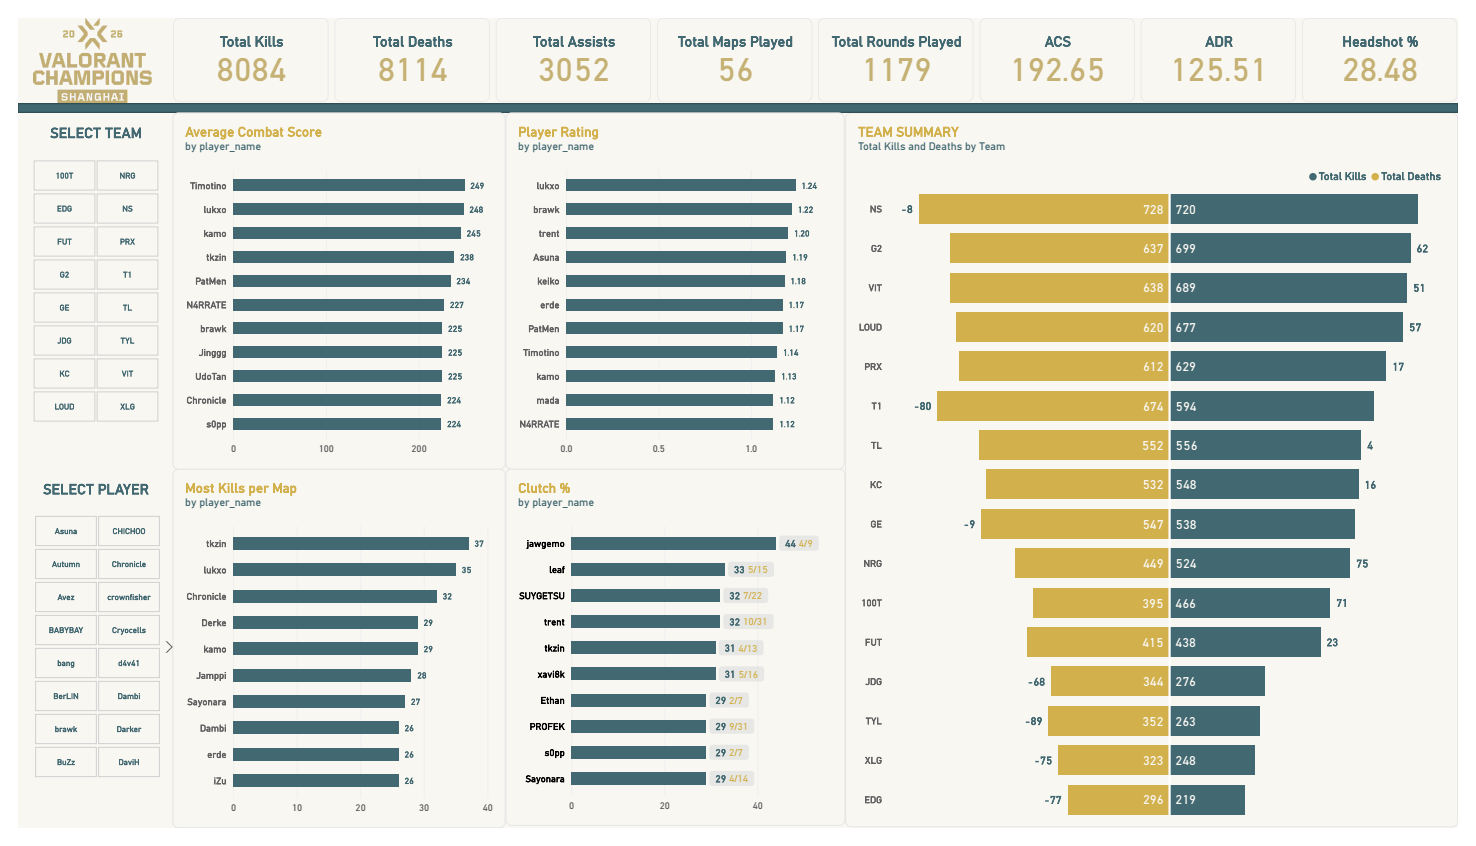

The dashboard page shown, as its layout file describes it:
{"tool":"powerbi","page":{"name":"Tournament Stats","canvas":[1920,1080],"ordinal":0},"visuals":[{"type":"cardVisual","fields":{"Data":["Sum(silver_data.total_kills)","Sum(silver_data.total_deaths)","Sum(silver_data.total_assists)","vlr_champs26_stats.Maps Played","vlr_champs26_stats.Total Rounds Played","silver_data.Average Combat Score","vlr_champs26_stats.Average Damage per Round","vlr_champs26_stats.Headshot %"]},"box":[207,0,1712.2,112.4],"z":0},{"type":"slicer","fields":{"Values":["silver_data.team"]},"box":[0,187.7,206.2,352.3],"z":2000},{"type":"image","box":[14.5,0,170.6,113.7],"z":3000},{"type":"barChart","title":"TEAM SUMMARY","fields":{"Category":["vlr_champs26_stats.team"],"Y":["vlr_champs26_stats.Total Kills","vlr_champs26_stats.-total_deaths"]},"box":[1103.4,126,816.2,952.6],"z":4000},{"type":"shape","box":[0,114.1,1920.1,12],"z":5000},{"type":"barChart","title":"Clutch %","fields":{"Category":["vlr_champs26_stats.player_name"],"Y":["vlr_champs26_stats.Clutch %"]},"box":[650,601.4,452.9,475.7],"z":6000},{"type":"barChart","fields":{"Category":["vlr_champs26_stats.player_name"],"Y":["vlr_champs26_stats.Most Kills per Map"]},"box":[205.7,601.4,444.3,478.6],"z":7000},{"type":"barChart","fields":{"Category":["vlr_champs26_stats.player_name"],"Y":["vlr_champs26_stats.Average Combat Score"]},"box":[206.4,125.7,444,476],"z":8000},{"type":"barChart","fields":{"Category":["vlr_champs26_stats.player_name"],"Y":["vlr_champs26_stats.Player Rating"]},"box":[650,125.7,452,476],"z":9000},{"type":"textbox","box":[0,142.3,207.7,45.5],"z":10000},{"type":"textbox","box":[2.1,617,204.3,44.7],"z":11000},{"type":"slicer","fields":{"Values":["vlr_champs26_stats.player_name"]},"box":[2.1,661.7,206.2,352.3],"z":12000}]}

Visuals, with their boxes in screenshot pixels (x1, y1, x2, y2), scaled from the page's 1920x1080 canvas onto the 1476x846 screenshot:
cardVisual - Sum(silver_data.total_kills) x Sum(silver_data.total_deaths): (x1=159, y1=0, x2=1475, y2=88)
slicer - silver_data.team: (x1=0, y1=147, x2=159, y2=423)
image: (x1=11, y1=0, x2=142, y2=89)
"TEAM SUMMARY" barChart: (x1=848, y1=99, x2=1475, y2=845)
shape: (x1=0, y1=89, x2=1475, y2=99)
"Clutch %" barChart: (x1=500, y1=471, x2=848, y2=844)
barChart - vlr_champs26_stats.player_name x vlr_champs26_stats.Most Kills per Map: (x1=158, y1=471, x2=500, y2=845)
barChart - vlr_champs26_stats.player_name x vlr_champs26_stats.Average Combat Score: (x1=159, y1=98, x2=500, y2=471)
barChart - vlr_champs26_stats.player_name x vlr_champs26_stats.Player Rating: (x1=500, y1=98, x2=847, y2=471)
textbox: (x1=0, y1=111, x2=160, y2=147)
textbox: (x1=2, y1=483, x2=159, y2=518)
slicer - vlr_champs26_stats.player_name: (x1=2, y1=518, x2=160, y2=794)
